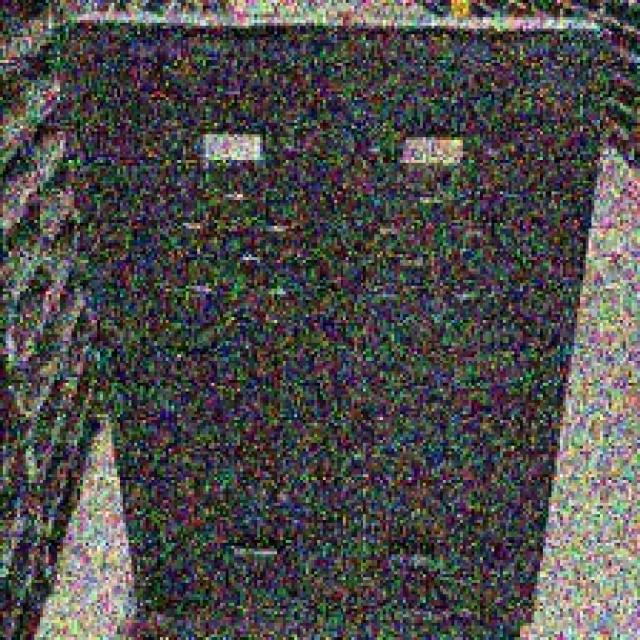igps: (39, 0, 628, 640)
